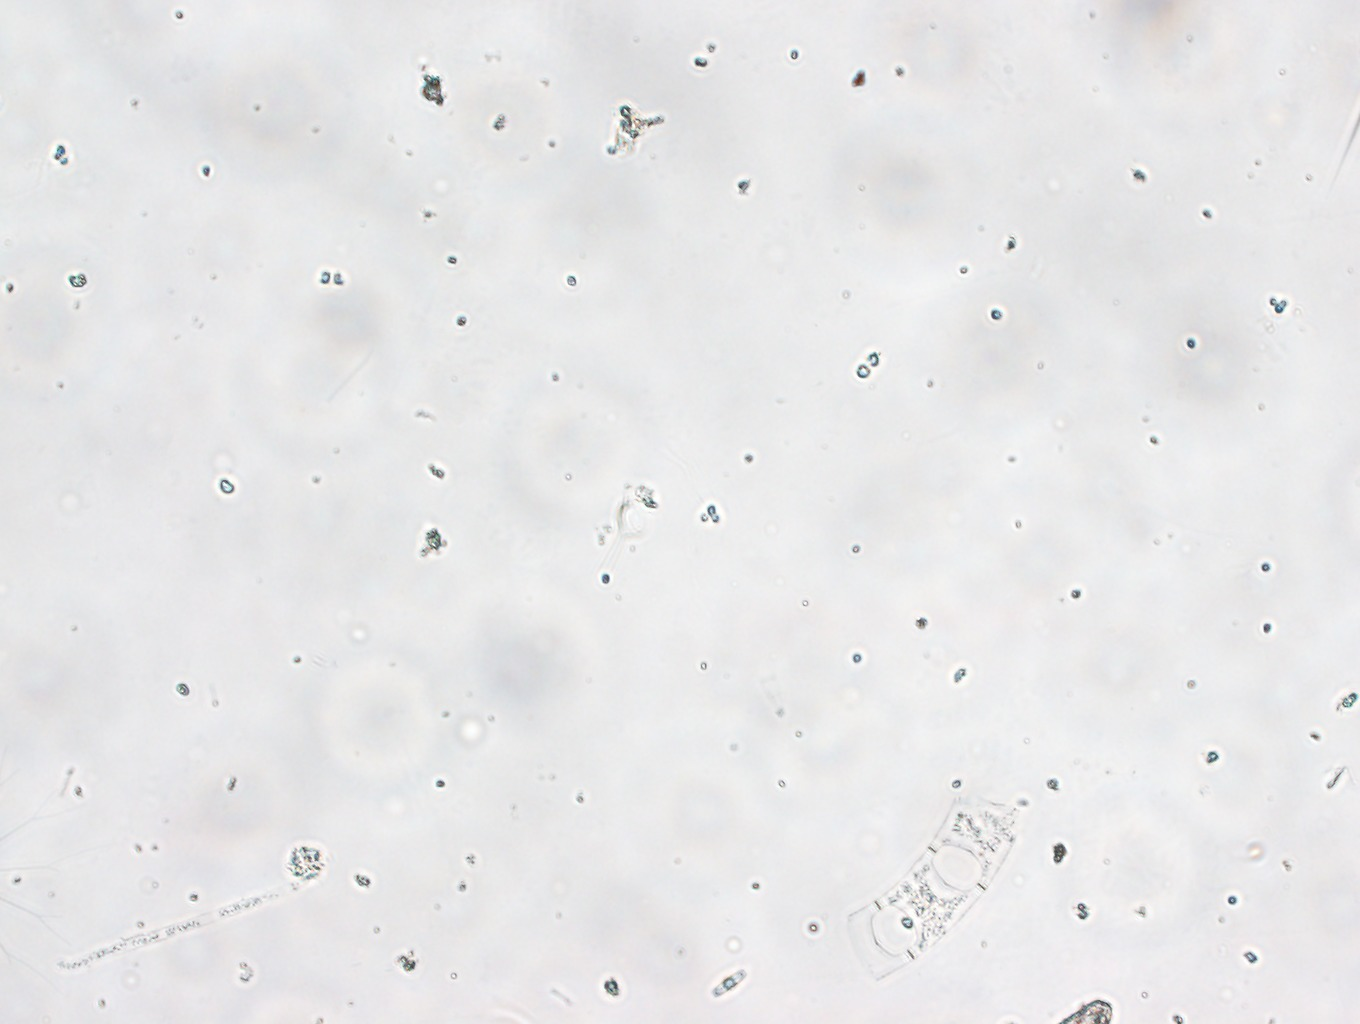eucampia: (843, 783, 1039, 987)
